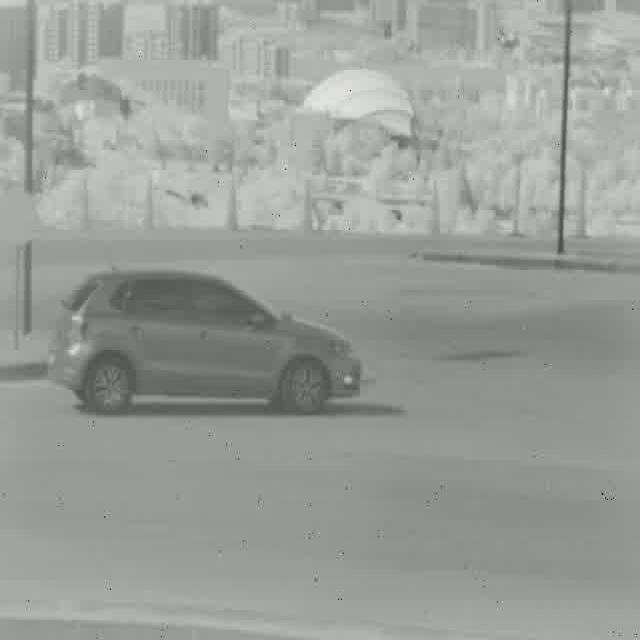Car: (48, 270, 363, 418)
